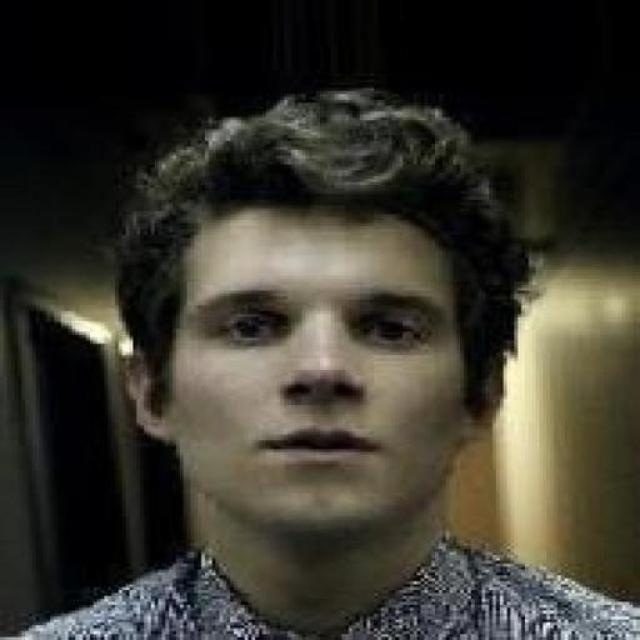bareface: (124, 104, 524, 526)
